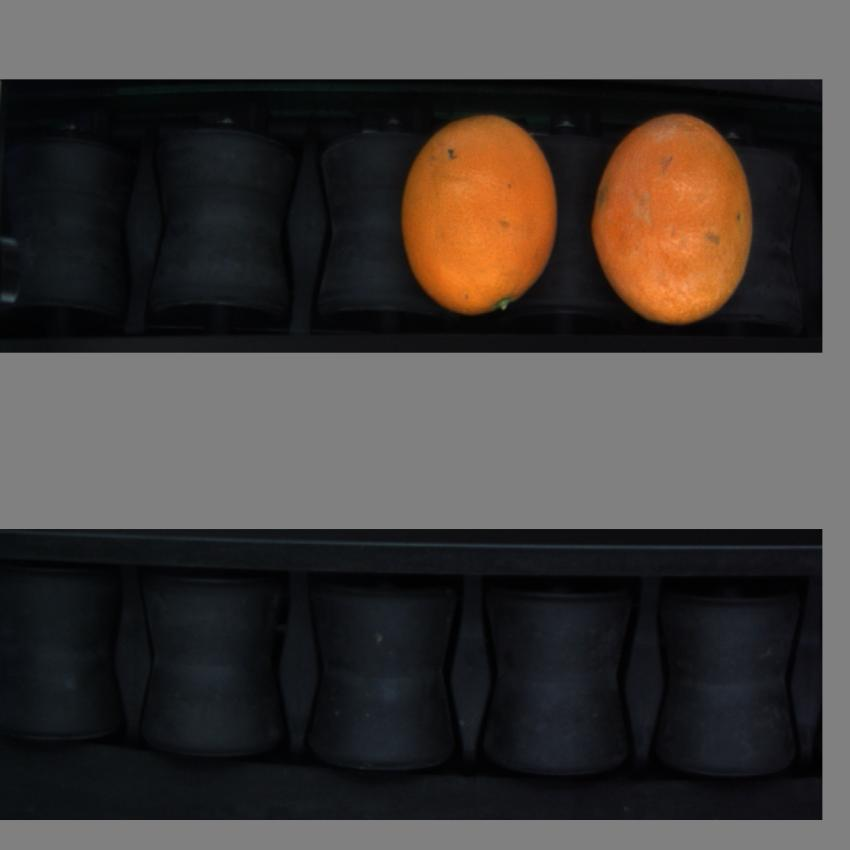Buen estado: (588, 103, 760, 332), (396, 105, 562, 326)
